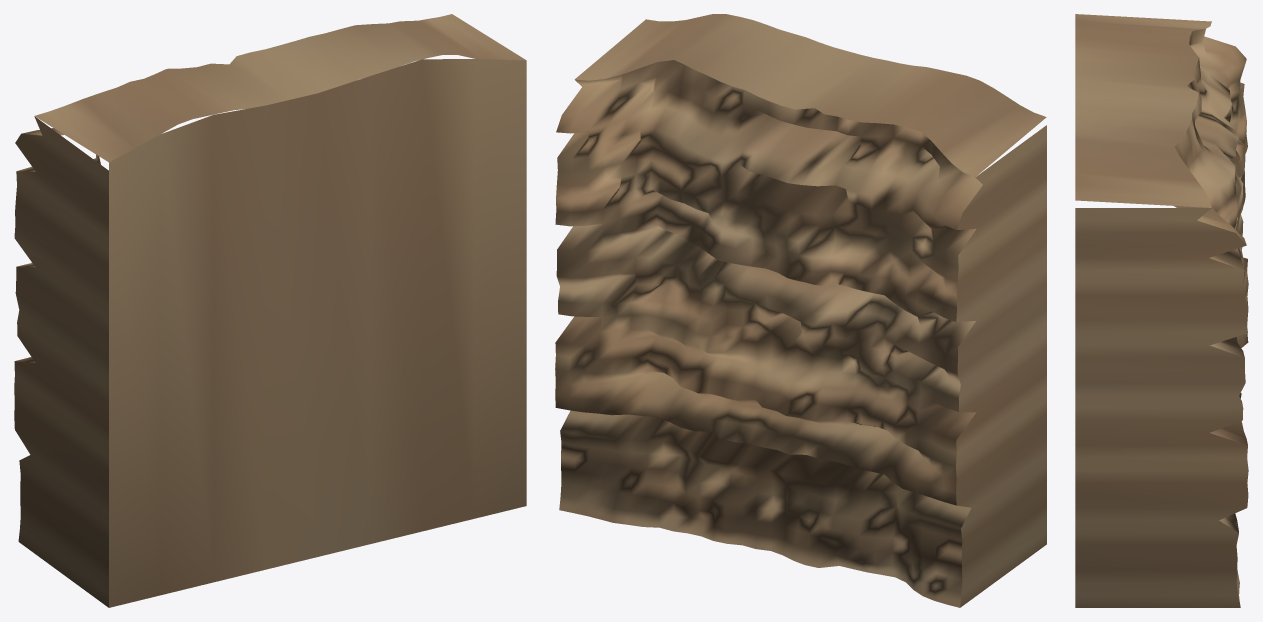
Rendered from cliff.sandstone.tan.glb.
3 views of the same model, side by side, from view 1: azimuth 30°, elevation 25°; view 2: azimuth 150°, elevation 25°; view 3: azimuth 270°, elevation 25° (orthographic). The views are drawn at different scales.
Visible parts, largest first — view 1: cliff_sandstone_tan; view 2: cliff_sandstone_tan; view 3: cliff_sandstone_tan.
Boxes of the visible parts, x1=… form: cliff_sandstone_tan: x1=14, y1=14, x2=526, y2=607; cliff_sandstone_tan: x1=555, y1=14, x2=1046, y2=607; cliff_sandstone_tan: x1=1075, y1=14, x2=1248, y2=607.
Size of what is drawn, in the model's own units: 8 by 8.64 by 3.14.
